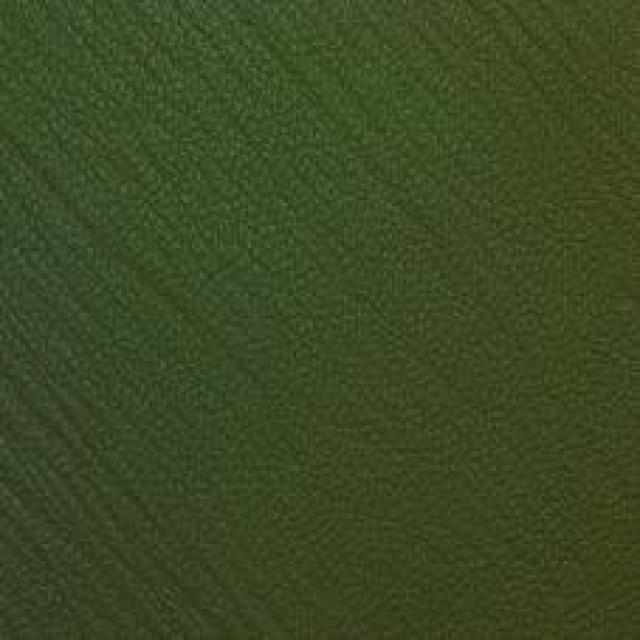Growth Marks: (154, 15, 504, 126), (30, 430, 224, 614)
